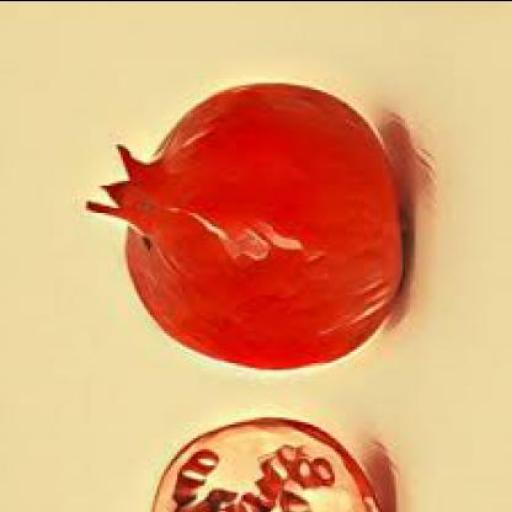biodegradable: (84, 82, 403, 373), (148, 418, 382, 511)
